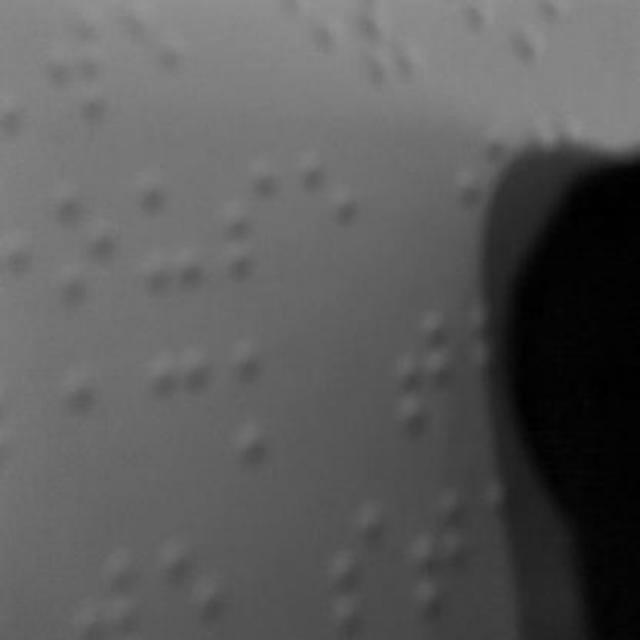braiile: (54, 167, 130, 311), (234, 335, 312, 461), (414, 476, 482, 620), (294, 142, 362, 282), (332, 488, 398, 628), (139, 160, 205, 296), (399, 302, 465, 434), (224, 146, 286, 286), (62, 360, 128, 490), (152, 333, 218, 462), (48, 7, 114, 123)
